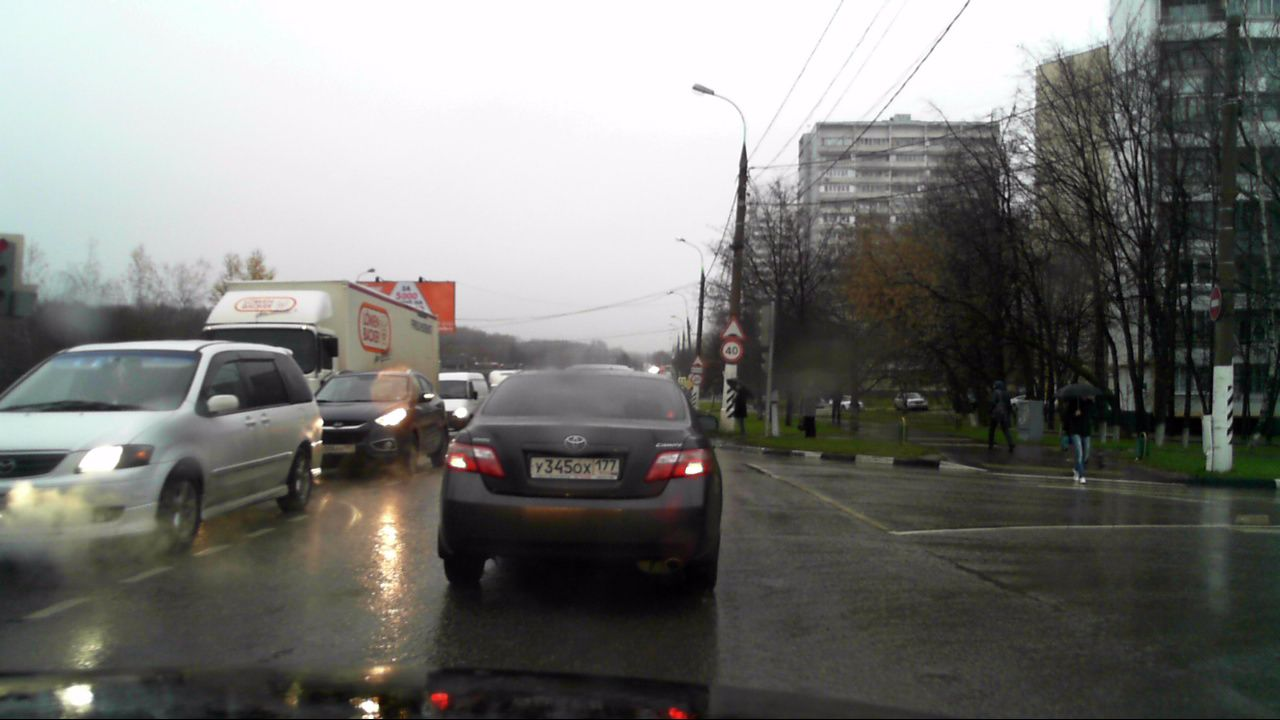speed_warning_40: (722, 340, 741, 359)
